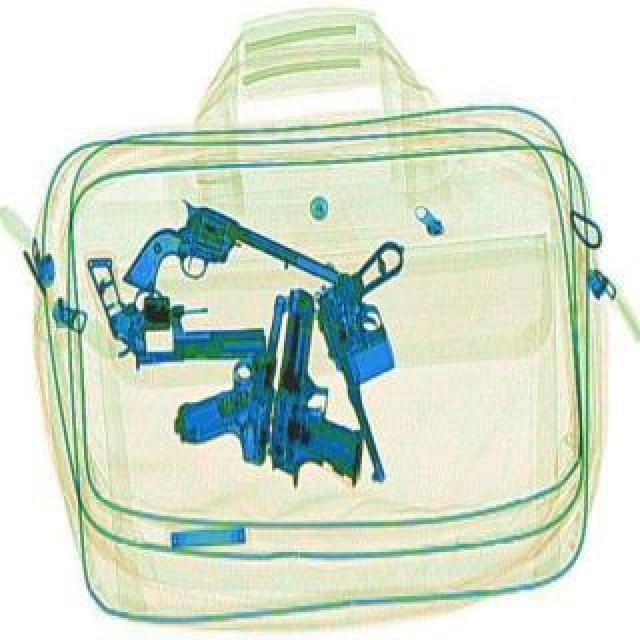gun: (298, 238, 480, 488), (122, 192, 346, 366), (266, 290, 386, 498), (172, 288, 294, 472), (88, 256, 270, 376)
